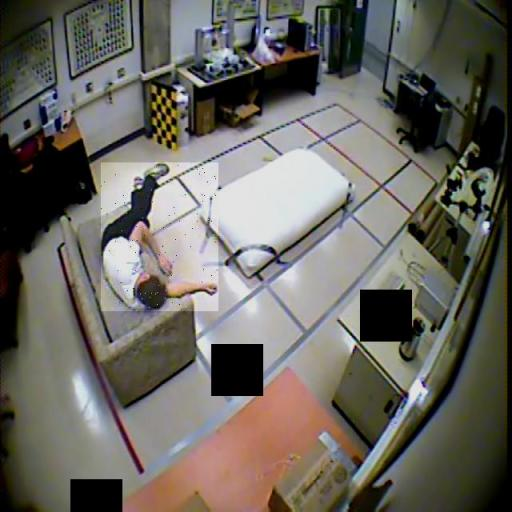Fall: (101, 163, 218, 312)
